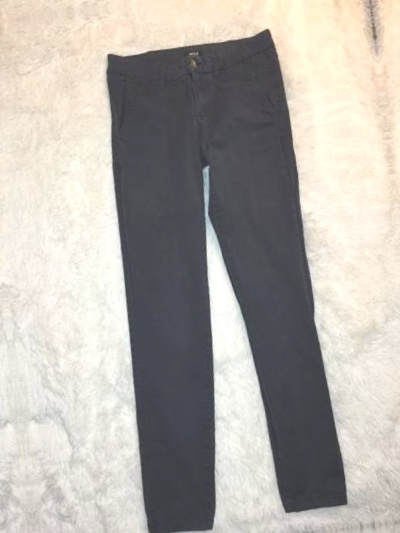Pants: (65, 12, 378, 533)
